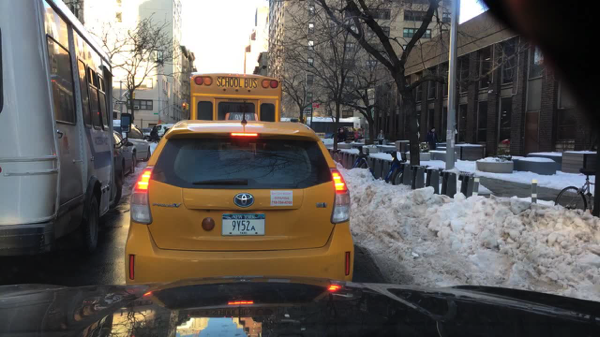bike: (553, 168, 595, 214), (382, 150, 407, 186), (350, 145, 374, 170), (328, 147, 344, 168)
bus: (0, 0, 134, 257), (188, 72, 283, 124), (280, 117, 362, 144)
car: (124, 119, 355, 285), (113, 118, 152, 162), (111, 131, 139, 176), (157, 123, 176, 136), (140, 128, 150, 135)
person: (423, 127, 439, 150), (150, 126, 159, 143), (377, 129, 385, 144)
